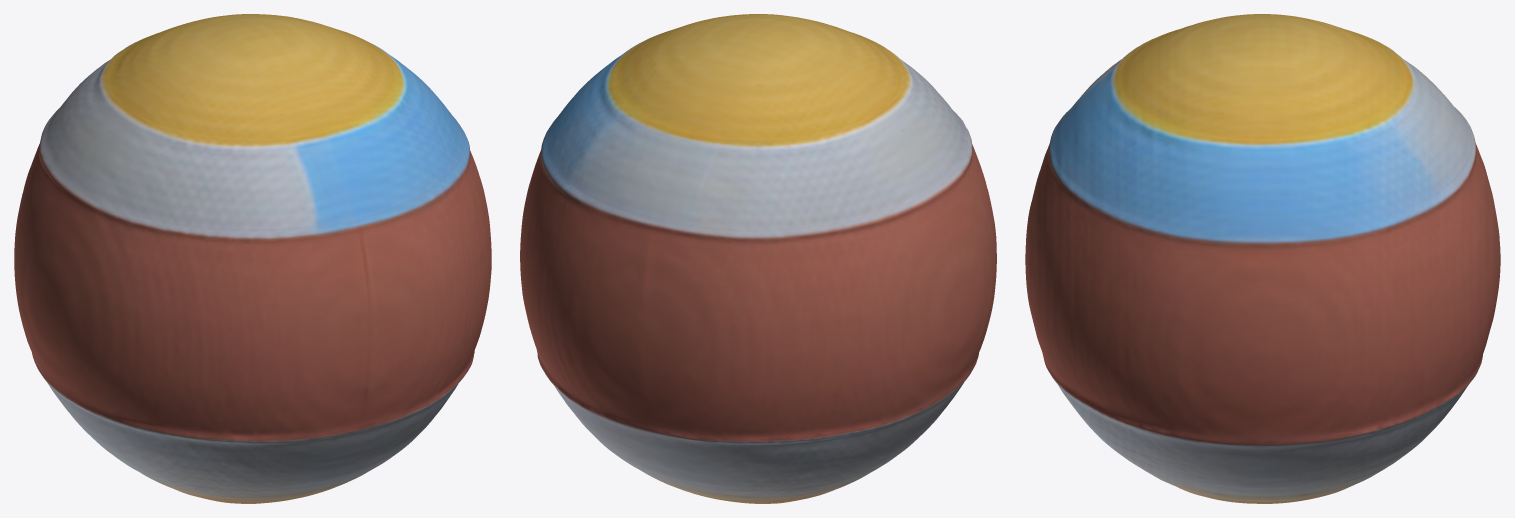
Rendered from beach-ball.glb.
The picture shows the model from 3 angles, left to right: view 1: azimuth 30°, elevation 25°; view 2: azimuth 150°, elevation 25°; view 3: azimuth 270°, elevation 25°; orthographic projection.
Parts seen in each view (by area): view 1: high_poly; view 2: high_poly; view 3: high_poly.
Boxes of the visible parts, x1,y1,x2,y2 form: high_poly: (14,14,491,503); high_poly: (520,14,996,503); high_poly: (1025,14,1500,503).
Bounding box in the file's own units: 0.9619 × 1 × 0.9631.
1 material, 1 textured.
